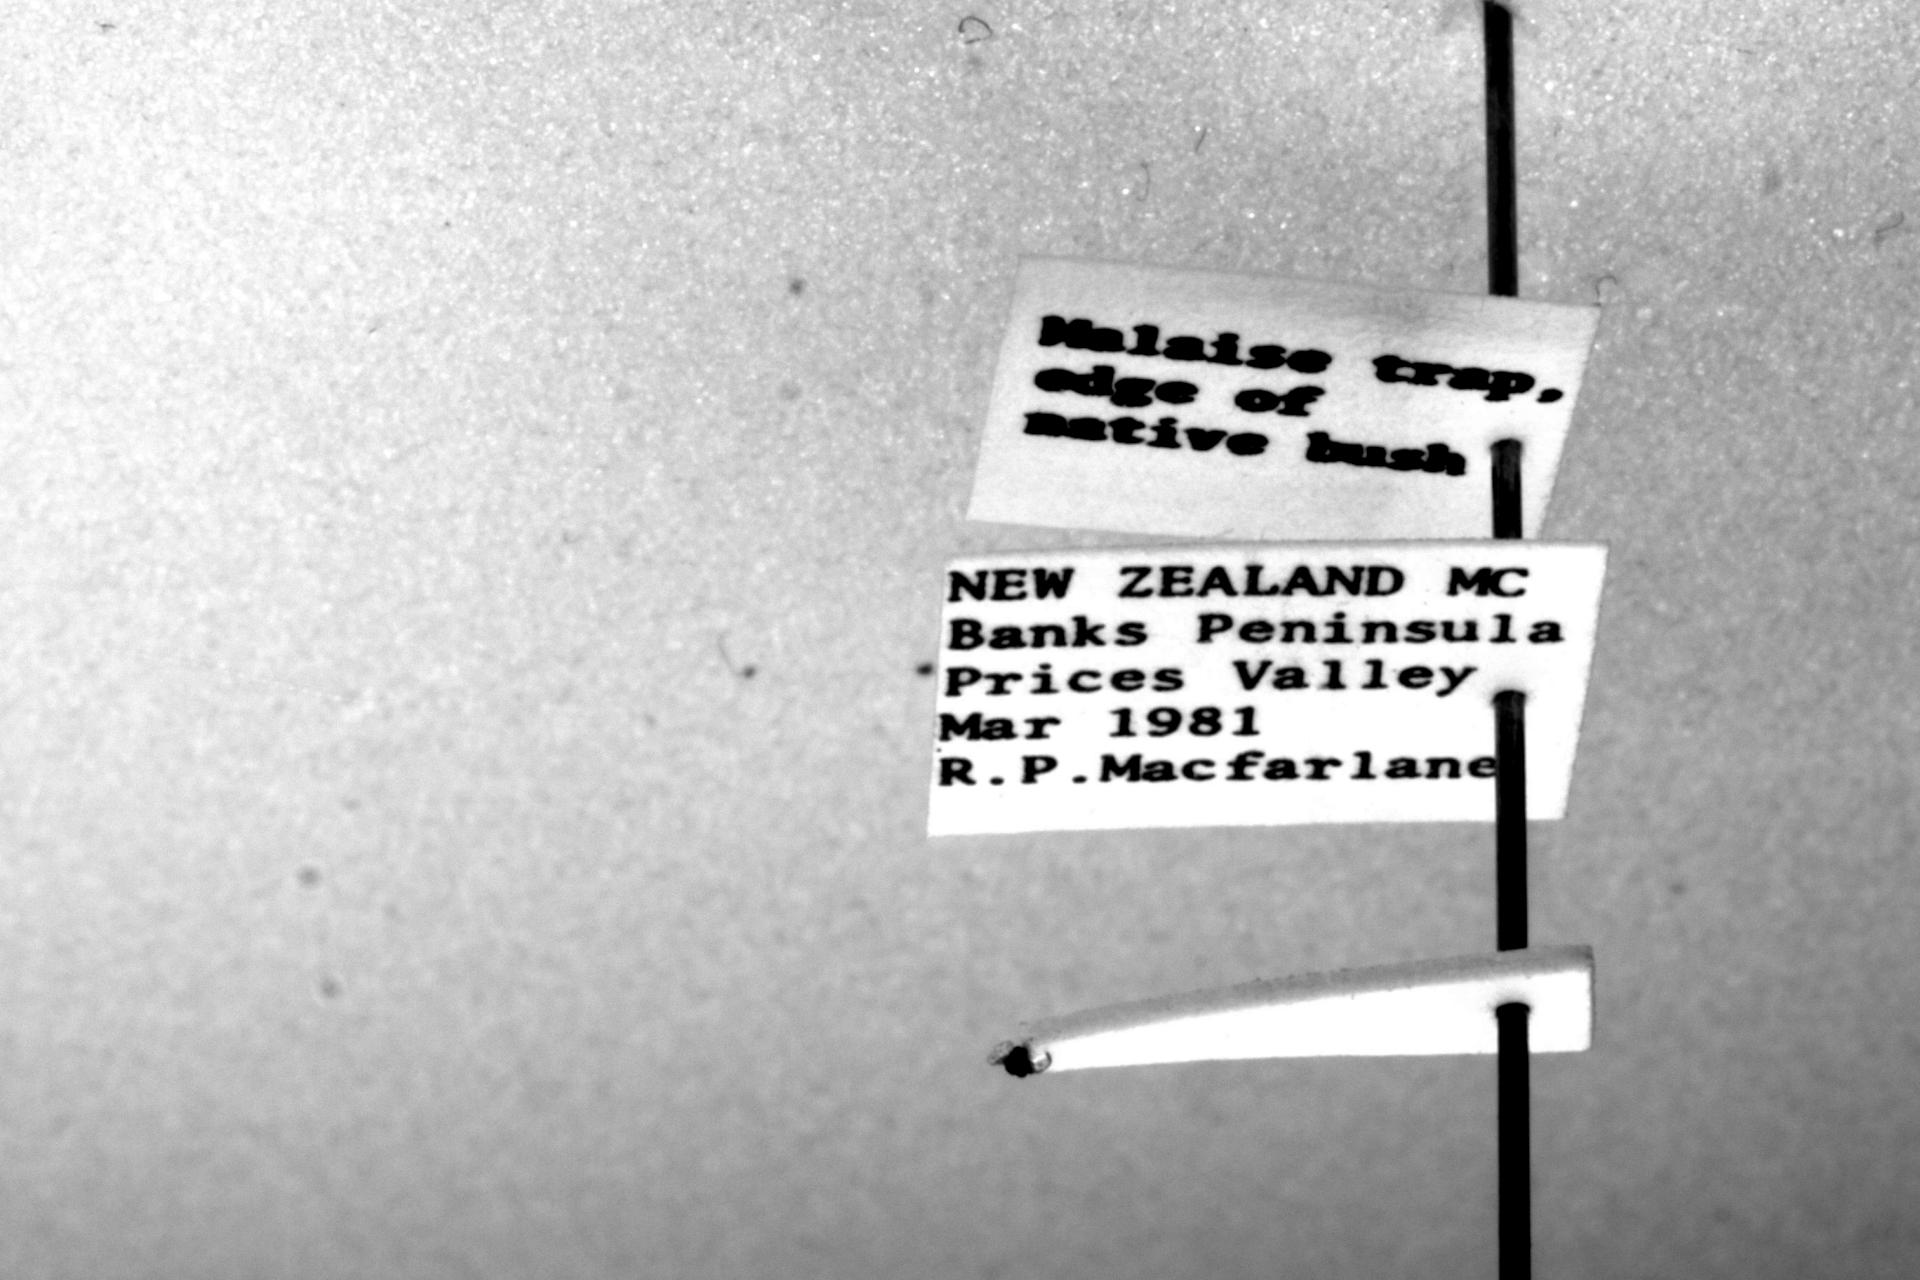typed_label: (930, 540, 1606, 836), (967, 259, 1597, 540)
